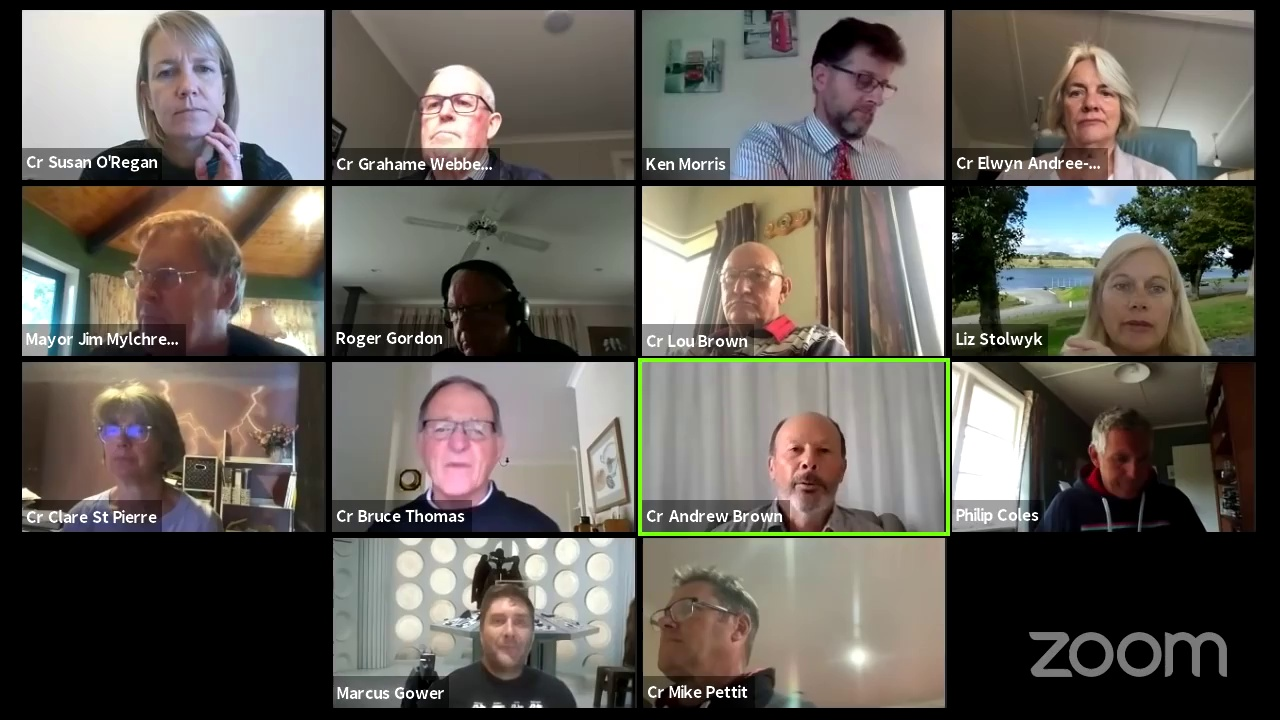Distracted: (121, 214, 238, 338), (648, 574, 751, 680), (812, 24, 898, 139), (447, 270, 525, 346), (1092, 415, 1160, 498)
Not Distracted: (130, 19, 240, 144), (416, 378, 503, 498), (1097, 232, 1183, 350), (761, 415, 849, 507), (1054, 43, 1133, 138), (407, 73, 492, 160), (90, 396, 166, 478), (712, 246, 795, 321), (471, 593, 540, 676)
